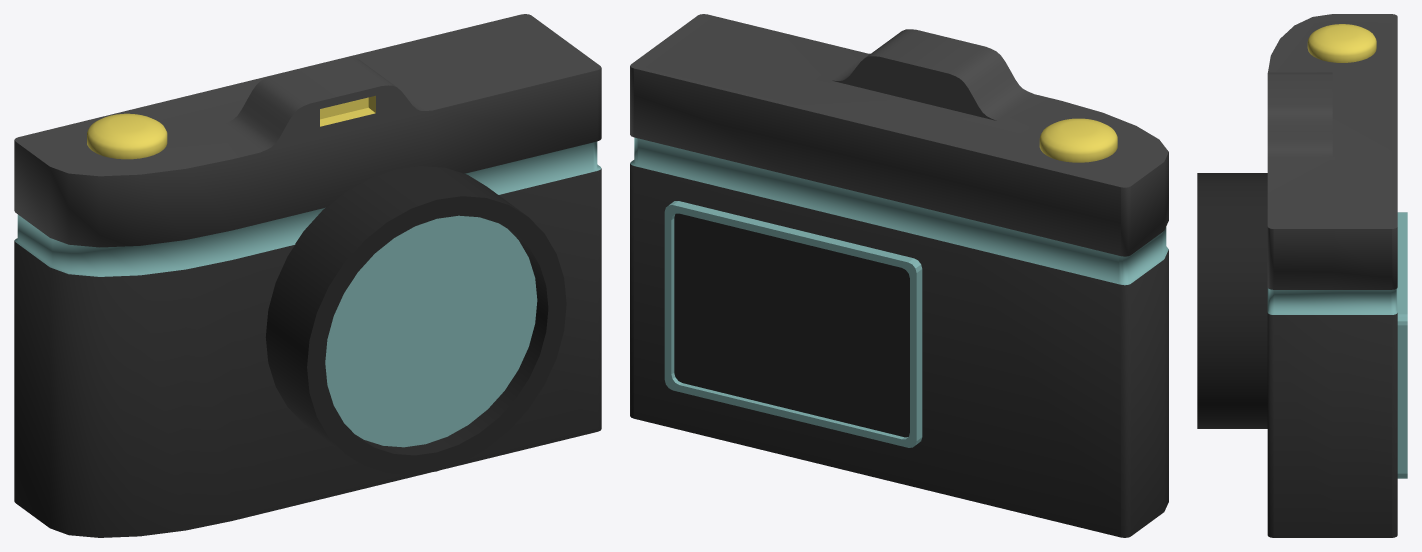
Rendered from camera.glb.
3 views of the same model, side by side, from view 1: azimuth 30°, elevation 25°; view 2: azimuth 150°, elevation 25°; view 3: azimuth 270°, elevation 25° (orthographic). The views are drawn at different scales.
Parts seen in each view (by area): view 1: Cube, Cube.002, Cylinder; view 2: Cube, Cube.001, Cylinder; view 3: Cube, Cube.002, Cube.001, Cylinder.
Part boxes in pixels (left/top/right/bottom): Cube: left=14, top=14, right=601, bottom=537; Cube.002: left=265, top=166, right=566, bottom=474; Cylinder: left=87, top=113, right=167, bottom=159; Cube: left=630, top=14, right=1168, bottom=537; Cube.001: left=664, top=201, right=922, bottom=447; Cylinder: left=1039, top=118, right=1117, bottom=162; Cube: left=1267, top=14, right=1397, bottom=537; Cube.002: left=1197, top=173, right=1267, bottom=428; Cube.001: left=1397, top=212, right=1407, bottom=478; Cylinder: left=1307, top=24, right=1376, bottom=62.
Bounding box in the file's own units: 1.98 × 1.46 × 0.8209.
